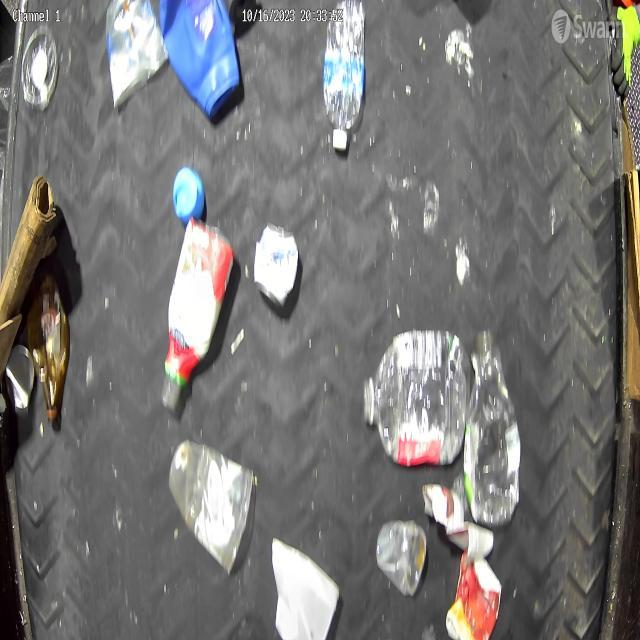can: (252, 211, 302, 316), (5, 346, 35, 432)
milk_jug: (268, 528, 328, 632)
non_white_jug: (158, 0, 244, 122)
plastic_bottle: (358, 324, 470, 466), (466, 322, 524, 531), (322, 2, 372, 162)
